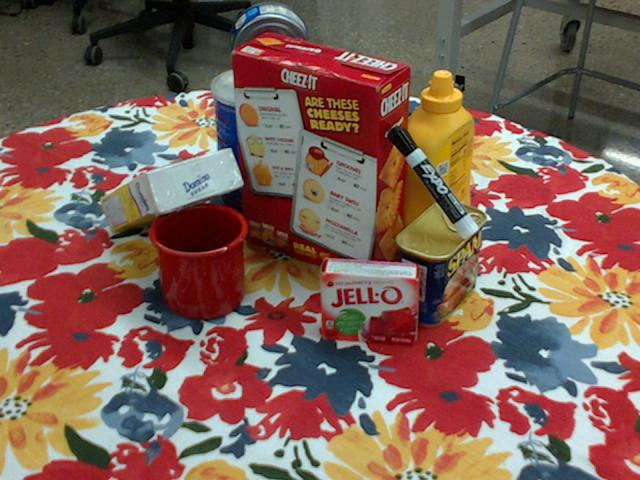cracker_box: (230, 33, 409, 284)
gelatin_box: (320, 257, 420, 345)
large_marker: (388, 125, 480, 238)
master_chef_can: (211, 66, 306, 218)
mug: (149, 202, 249, 319)
mustard_bottle: (400, 70, 475, 262)
potted_meat_can: (396, 200, 488, 328)
sugar_box: (98, 149, 243, 232)
tomato_soup_can: (361, 109, 424, 216)
tuna_fish_can: (228, 3, 309, 88)
